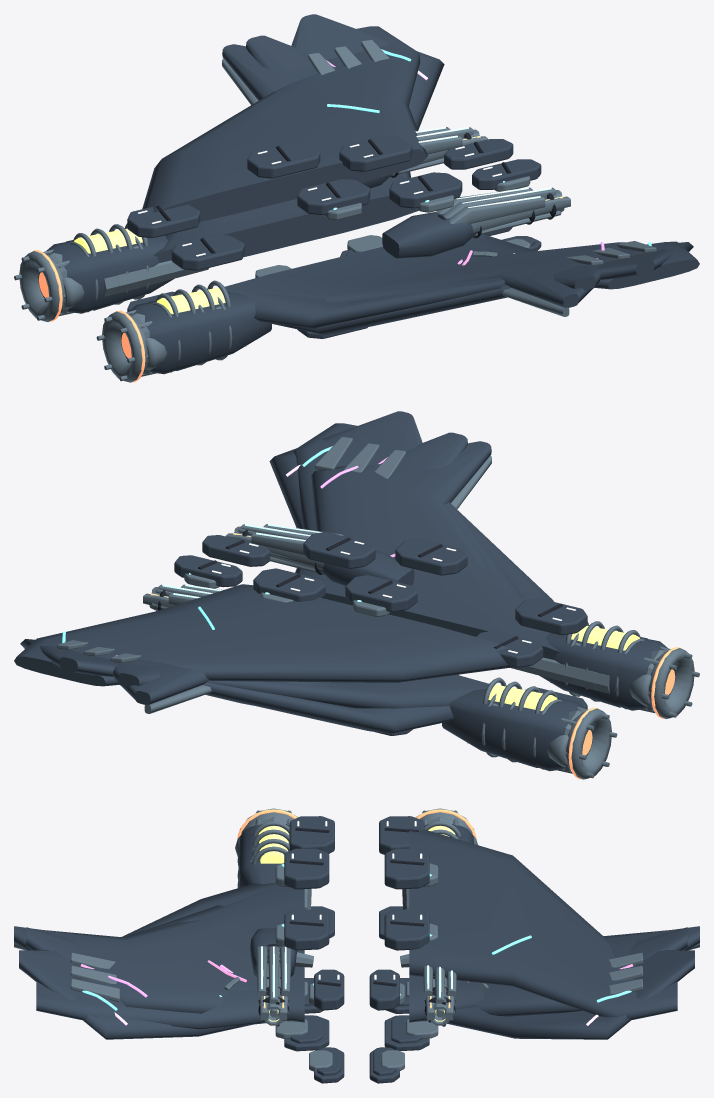
Rendered from helios.glb.
The picture shows the model from 3 angles, top to bottom: view 1: azimuth 30°, elevation 25°; view 2: azimuth 150°, elevation 25°; view 3: azimuth 270°, elevation 25°; orthographic projection.
Visible parts, largest first — view 1: w_vane Fitting gunmetal, p_heavy Fitting gunmetal, w_razor Fitting gunmetal, w_phantom Fitting gunmetal, w_prism Fitting gunmetal, e_twin Fitting gunmetal, e_nova Brushed fitting edges, e_nova Fitting gunmetal, m_array Brushed fitting edges, m_heavy Fitting gunmetal, e_twin Brushed fitting edges, p_light Brushed fitting edges (+10 smaller); view 2: w_vane Fitting gunmetal, w_phantom Fitting gunmetal, w_razor Fitting gunmetal, p_heavy Fitting gunmetal, w_prism Fitting gunmetal, e_twin Fitting gunmetal, e_nova Brushed fitting edges, e_nova Fitting gunmetal, e_twin Brushed fitting edges, w_vane Brushed fitting edges, e_fusion Brushed fitting edges, m_array Brushed fitting edges (+9 smaller); view 3: w_vane Fitting gunmetal, p_heavy Fitting gunmetal, w_phantom Fitting gunmetal, w_prism Fitting gunmetal, w_razor Fitting gunmetal, p_light Brushed fitting edges, w_vane Brushed fitting edges, m_array Brushed fitting edges, p_aegis Fitting gunmetal, e_fusion Brushed fitting edges, e_twin Fitting gunmetal, p_reactive Fitting gunmetal (+8 smaller).
Boxes of the visible parts, x1=… form: w_vane Fitting gunmetal: x1=142, y1=26, x2=699, y2=328; p_heavy Fitting gunmetal: x1=127, y1=136, x2=541, y2=338; w_razor Fitting gunmetal: x1=153, y1=35, x2=600, y2=302; w_phantom Fitting gunmetal: x1=158, y1=44, x2=625, y2=307; w_prism Fitting gunmetal: x1=229, y1=14, x2=693, y2=334; e_twin Fitting gunmetal: x1=66, y1=235, x2=271, y2=370; e_nova Brushed fitting edges: x1=14, y1=249, x2=156, y2=382; e_nova Fitting gunmetal: x1=38, y1=242, x2=179, y2=374; m_array Brushed fitting edges: x1=416, y1=127, x2=556, y2=224; m_heavy Fitting gunmetal: x1=361, y1=174, x2=477, y2=258; e_twin Brushed fitting edges: x1=62, y1=245, x2=221, y2=369; p_light Brushed fitting edges: x1=255, y1=176, x2=530, y2=333; w_vane Fitting gunmetal: x1=14, y1=423, x2=553, y2=686; w_phantom Fitting gunmetal: x1=119, y1=441, x2=547, y2=704; w_razor Fitting gunmetal: x1=113, y1=432, x2=560, y2=708; p_heavy Fitting gunmetal: x1=174, y1=532, x2=587, y2=735; w_prism Fitting gunmetal: x1=20, y1=411, x2=555, y2=733; e_twin Fitting gunmetal: x1=442, y1=632, x2=647, y2=767; e_nova Brushed fitting edges: x1=557, y1=646, x2=699, y2=779; e_nova Fitting gunmetal: x1=534, y1=639, x2=675, y2=771; e_twin Brushed fitting edges: x1=492, y1=642, x2=651, y2=766; w_vane Brushed fitting edges: x1=57, y1=437, x2=405, y2=662; e_fusion Brushed fitting edges: x1=467, y1=621, x2=667, y2=771; m_array Brushed fitting edges: x1=157, y1=524, x2=343, y2=605; w_vane Fitting gunmetal: x1=36, y1=828, x2=677, y2=1029; p_heavy Fitting gunmetal: x1=284, y1=816, x2=429, y2=1083; w_phantom Fitting gunmetal: x1=14, y1=918, x2=699, y2=1021; w_prism Fitting gunmetal: x1=19, y1=950, x2=694, y2=1039; w_razor Fitting gunmetal: x1=26, y1=885, x2=687, y2=1022; p_light Brushed fitting edges: x1=275, y1=863, x2=438, y2=1071; w_vane Brushed fitting edges: x1=70, y1=952, x2=643, y2=1001; m_array Brushed fitting edges: x1=256, y1=946, x2=456, y2=1003; p_aegis Fitting gunmetal: x1=290, y1=978, x2=422, y2=1075; e_fusion Brushed fitting edges: x1=249, y1=817, x2=464, y2=864; e_twin Fitting gunmetal: x1=238, y1=833, x2=473, y2=887; p_reactive Fitting gunmetal: x1=294, y1=979, x2=418, y2=1070.
Size of the model in its own units: 48.66 by 12.99 by 57.78.
